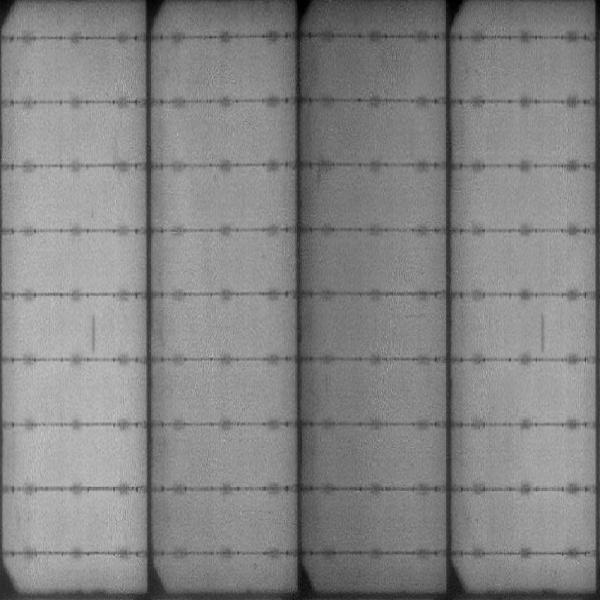scratch: (83, 306, 104, 359), (535, 306, 548, 354)
